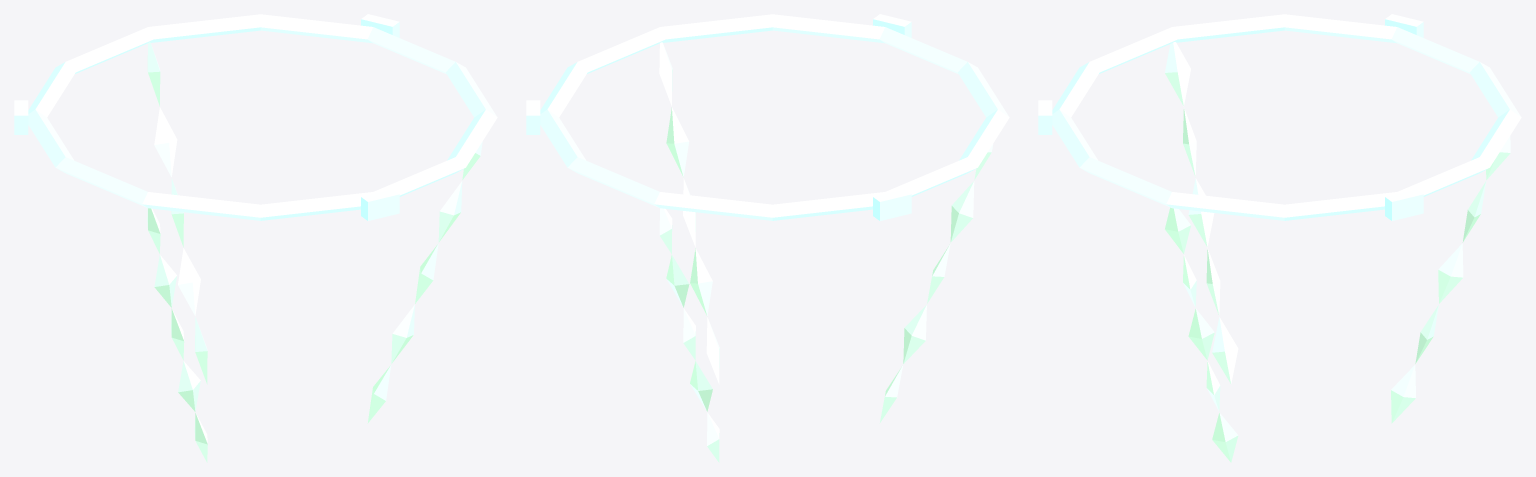
Rendered from Undead_Geisterkette.fbx.
3 renders of one model, left to right at view 1: azimuth 30°, elevation 25°; view 2: azimuth 150°, elevation 25°; view 3: azimuth 270°, elevation 25°, orthographic.
Visible parts, largest first — view 1: Bind_Ring, Bind_Chain_1, Bind_Chain_2, Bind_Chain_3; view 2: Bind_Ring, Bind_Chain_2, Bind_Chain_3, Bind_Chain_1; view 3: Bind_Ring, Bind_Chain_3, Bind_Chain_1, Bind_Chain_2.
Part boxes in pixels (box(x1,y1,x2,y2)): Bind_Ring: box(14, 14, 497, 220); Bind_Chain_1: box(147, 42, 207, 384); Bind_Chain_2: box(367, 142, 482, 423); Bind_Chain_3: box(147, 208, 207, 462); Bind_Ring: box(526, 14, 1009, 220); Bind_Chain_2: box(659, 42, 719, 384); Bind_Chain_3: box(879, 144, 993, 423); Bind_Chain_1: box(659, 208, 719, 462); Bind_Ring: box(1038, 14, 1521, 220); Bind_Chain_3: box(1165, 42, 1238, 384); Bind_Chain_1: box(1391, 136, 1510, 423); Bind_Chain_2: box(1165, 207, 1238, 462).
Size of the model in its own units: 1.68 by 1.24 by 1.72.
